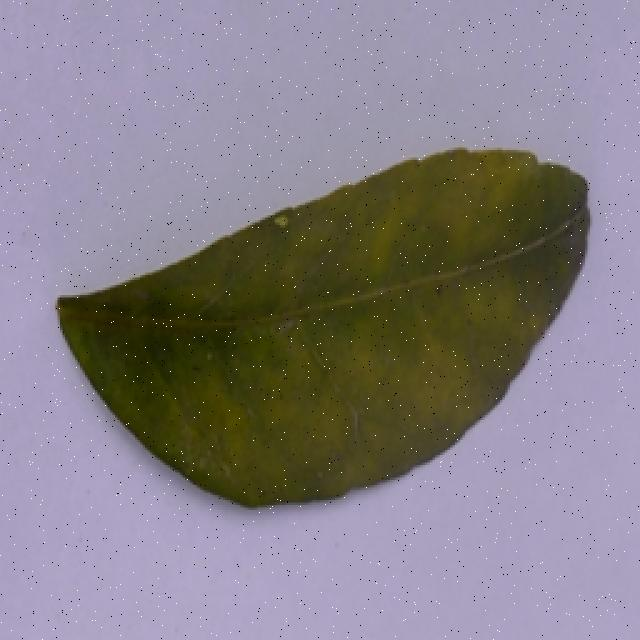blackspot: (45, 138, 610, 508)
